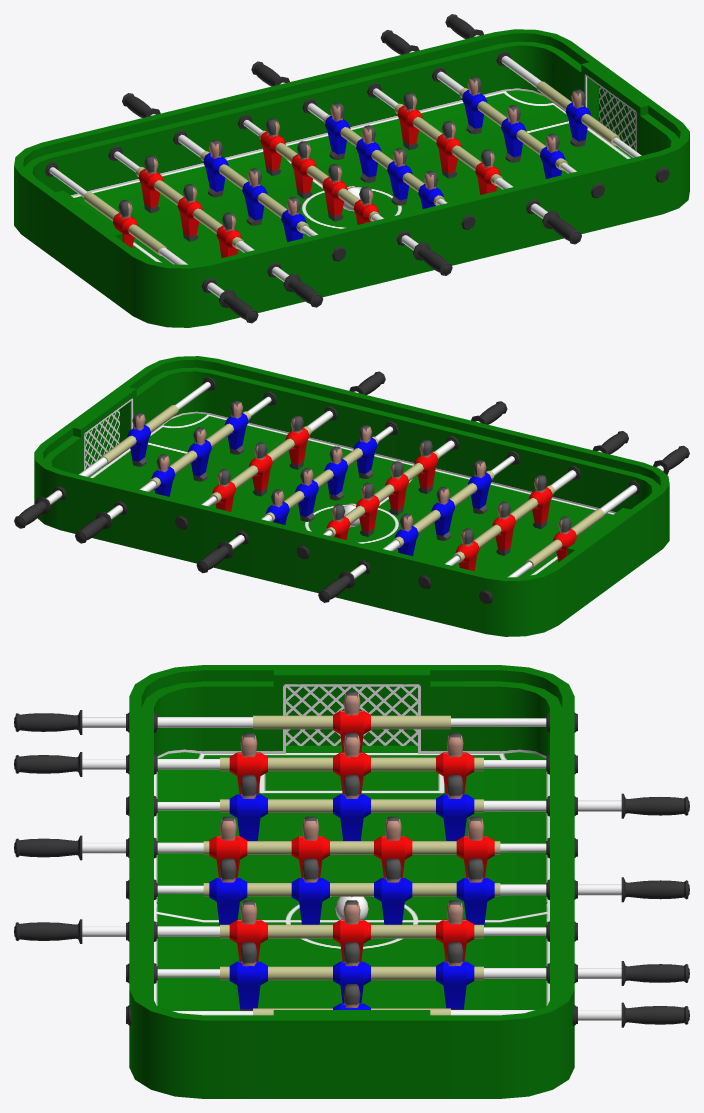
The model's file is Fussball.glb.
3 renders of one model, top to bottom at view 1: azimuth 30°, elevation 25°; view 2: azimuth 150°, elevation 25°; view 3: azimuth 270°, elevation 25°, orthographic. The views are drawn at different scales.
Parts seen in each view (by area): view 1: unnamed (×2); view 2: unnamed (×2); view 3: unnamed (×2).
Part boxes in pixels (bbox=[...]): unnamed (×2): bbox=[14, 14, 689, 327]; unnamed (×2): bbox=[14, 356, 689, 636]; unnamed (×2): bbox=[14, 665, 689, 1098].
Bounding box in the file's own units: 2.04 × 0.2247 × 1.64.
1 material, 1 textured.
